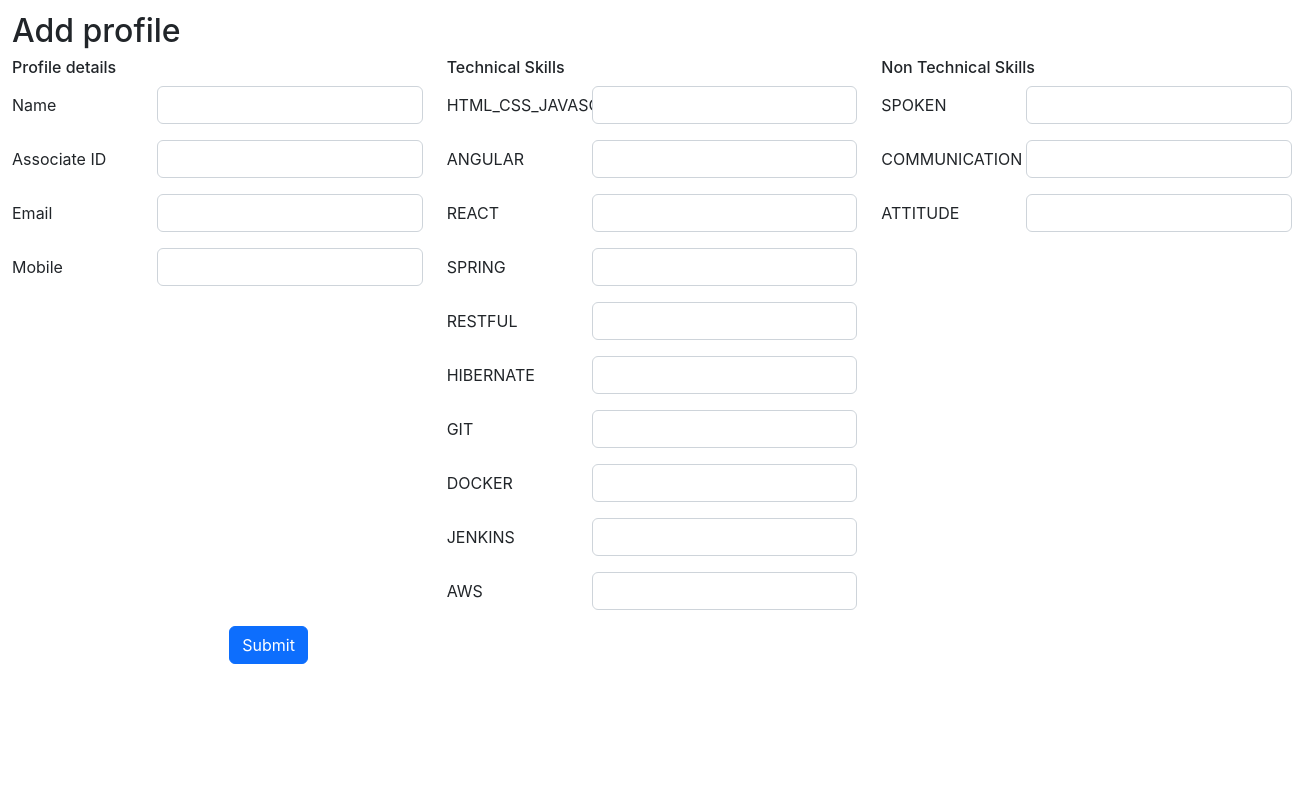
Test case: Add, Edit and view profile › shows errors when submitting new profile
Step 1. Click the button "Submit" → [269, 645], box [229,626,308,664]
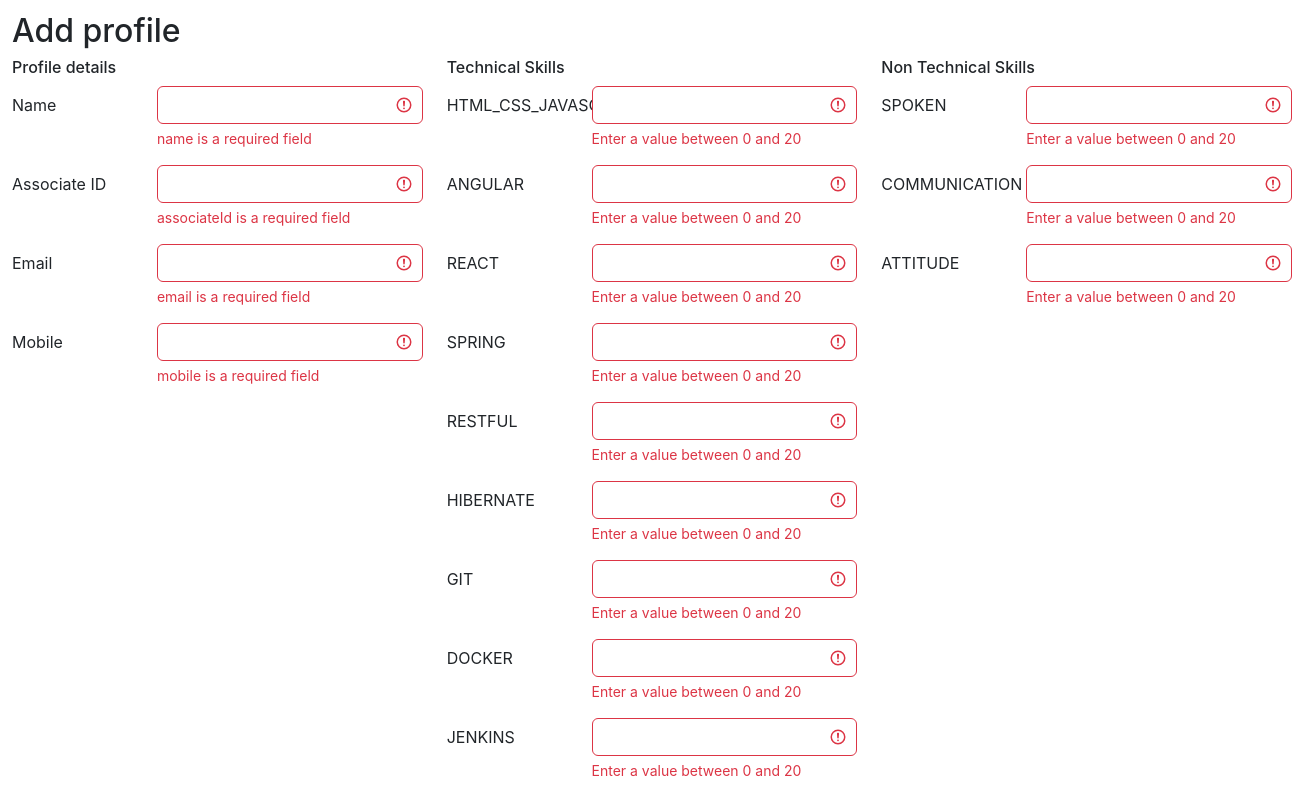
Expected: the text "Enter a value between 0 and 20" is shown 13 times
